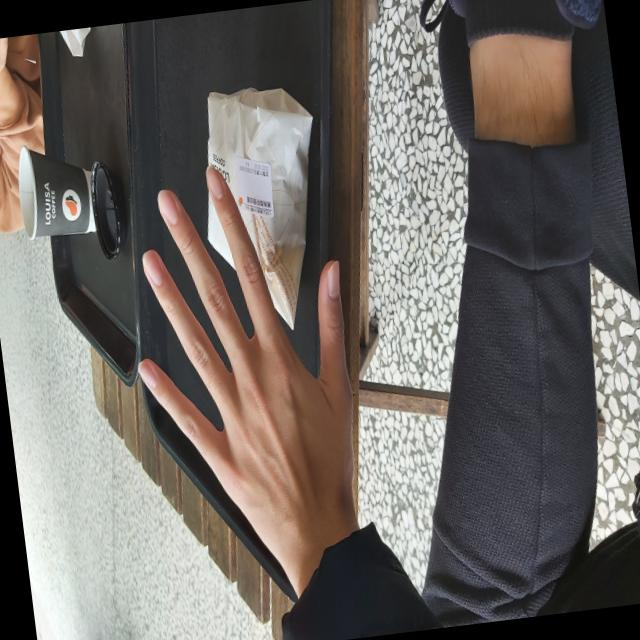Nail: (142, 248, 162, 284), (158, 188, 177, 225), (205, 164, 223, 198), (137, 359, 156, 386), (327, 259, 338, 296)
